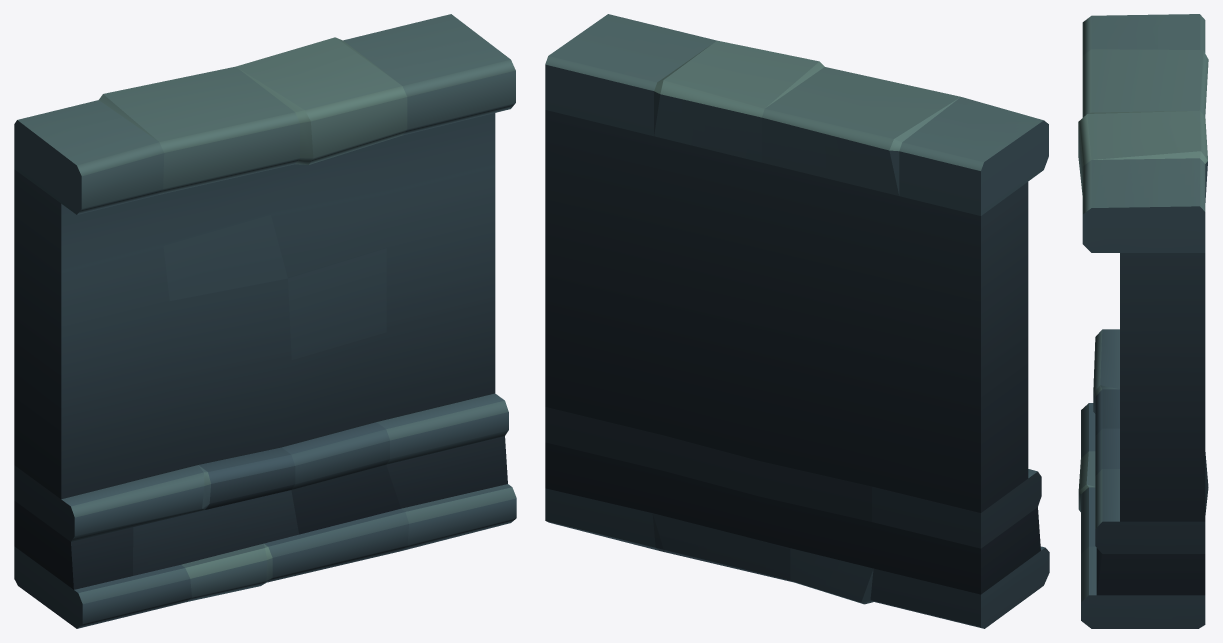
Rendered from wall_element_tileable_4meters.fbx.
3 views of the same model, side by side, from view 1: azimuth 30°, elevation 25°; view 2: azimuth 150°, elevation 25°; view 3: azimuth 270°, elevation 25° (orthographic). The views are drawn at different scales.
Visible parts, largest first — view 1: wall_element_tileable_4meters; view 2: wall_element_tileable_4meters; view 3: wall_element_tileable_4meters.
Boxes of the visible parts, x1=… form: wall_element_tileable_4meters: x1=14, y1=14, x2=516, y2=628; wall_element_tileable_4meters: x1=545, y1=14, x2=1049, y2=628; wall_element_tileable_4meters: x1=1078, y1=14, x2=1208, y2=628.
Size of the model in its own units: 400 by 416 by 114.
